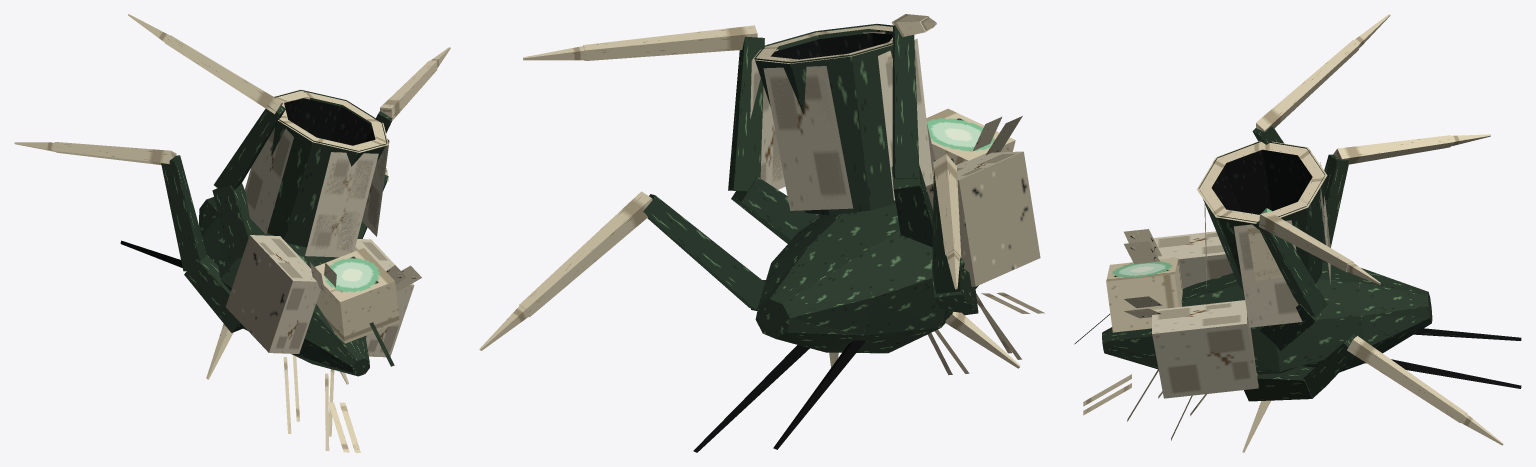
Rendered from vore_hurt.obj.
The picture shows the model from 3 angles, left to right: view 1: azimuth 30°, elevation 25°; view 2: azimuth 150°, elevation 25°; view 3: azimuth 270°, elevation 25°; orthographic projection. The views are drawn at different scales.
Visible parts, largest first — view 1: root, funnel, head, petal_top, petal_left, leg_rl_femur, leg_fl_coxa, leg_fl_femur, leg_rl_coxa, leg_fl_tibia, leg_rl_tibia, leg_fr_tibia (+1 smaller); view 2: root, funnel, petal_bottom, leg_rr_femur, leg_fr_femur, leg_fl_femur, leg_fr_tibia, leg_rr_tibia, head, leg_fr_coxa, petal_left, leg_fl_coxa (+9 smaller); view 3: root, funnel, petal_right, head, leg_fr_femur, leg_rr_tibia, leg_fl_tibia, leg_rl_tibia, leg_rr_coxa, leg_fr_tibia, leg_rl_femur, leg_rr_femur (+3 smaller).
Part boxes in pixels (x1=…): root: x1=199, y1=197, x2=421, y2=452; funnel: x1=267, y1=89, x2=388, y2=247; head: x1=309, y1=248, x2=399, y2=366; petal_top: x1=305, y1=152, x2=378, y2=257; petal_left: x1=245, y1=128, x2=293, y2=234; leg_rl_femur: x1=161, y1=155, x2=206, y2=271; leg_fl_coxa: x1=212, y1=183, x2=261, y2=262; leg_fl_femur: x1=214, y1=105, x2=285, y2=190; leg_rl_coxa: x1=184, y1=255, x2=243, y2=332; leg_fl_tibia: x1=165, y1=35, x2=282, y2=114; leg_rl_tibia: x1=53, y1=142, x2=176, y2=164; leg_fr_tibia: x1=380, y1=60, x2=437, y2=120; root: x1=755, y1=116, x2=1044, y2=368; funnel: x1=752, y1=23, x2=895, y2=215; petal_bottom: x1=763, y1=66, x2=853, y2=210; leg_rr_femur: x1=643, y1=194, x2=765, y2=309; leg_fr_femur: x1=728, y1=36, x2=764, y2=191; leg_fl_femur: x1=892, y1=25, x2=919, y2=179; leg_fr_tibia: x1=583, y1=25, x2=757, y2=60; leg_rr_tibia: x1=519, y1=191, x2=652, y2=317; head: x1=926, y1=108, x2=1015, y2=175; leg_fr_coxa: x1=731, y1=176, x2=819, y2=243; petal_left: x1=878, y1=38, x2=933, y2=200; leg_fl_coxa: x1=891, y1=166, x2=933, y2=247; root: x1=1083, y1=229, x2=1432, y2=452; funnel: x1=1197, y1=141, x2=1327, y2=291; petal_right: x1=1233, y1=220, x2=1302, y2=327; head: x1=1074, y1=257, x2=1182, y2=344; leg_fr_femur: x1=1256, y1=221, x2=1327, y2=316; leg_rr_tibia: x1=1347, y1=336, x2=1467, y2=422; leg_fl_tibia: x1=1256, y1=40, x2=1358, y2=131; leg_rl_tibia: x1=1333, y1=135, x2=1453, y2=164; leg_rr_coxa: x1=1244, y1=366, x2=1314, y2=401; leg_fr_tibia: x1=1259, y1=212, x2=1353, y2=272; leg_rl_femur: x1=1322, y1=154, x2=1349, y2=262; leg_rr_femur: x1=1303, y1=334, x2=1355, y2=397.
Bounding box in the file's own units: 0.8776 × 0.8078 × 0.8647.
1 material, 1 textured.
